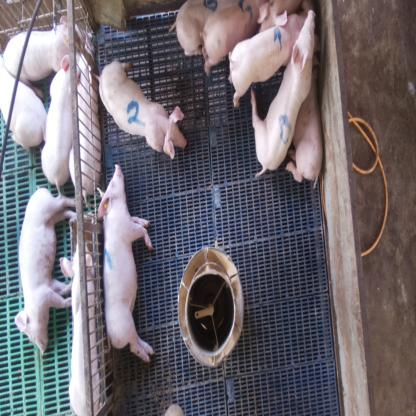1: (273, 26, 282, 52)
2: (126, 99, 148, 130)
5: (238, 1, 253, 24)
N-A: (279, 116, 291, 144)
